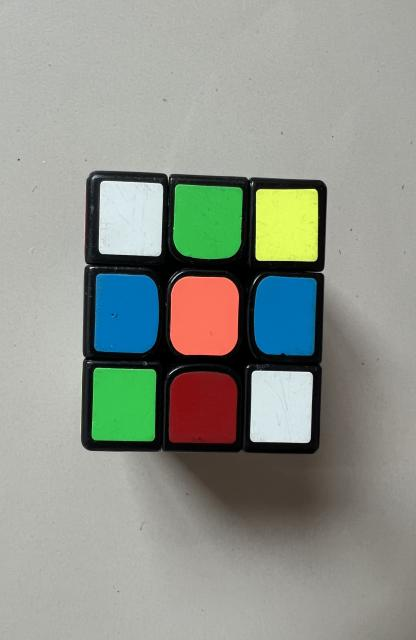Blue: (94, 274, 159, 354), (254, 276, 316, 356)
Green: (173, 184, 243, 259), (91, 368, 156, 441)
Orange: (170, 276, 239, 355)
Red: (169, 371, 237, 444)
White: (99, 180, 164, 256), (250, 370, 313, 444)
Yellow: (256, 189, 318, 261)
